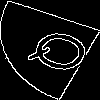Q: (25, 25, 100, 81)
